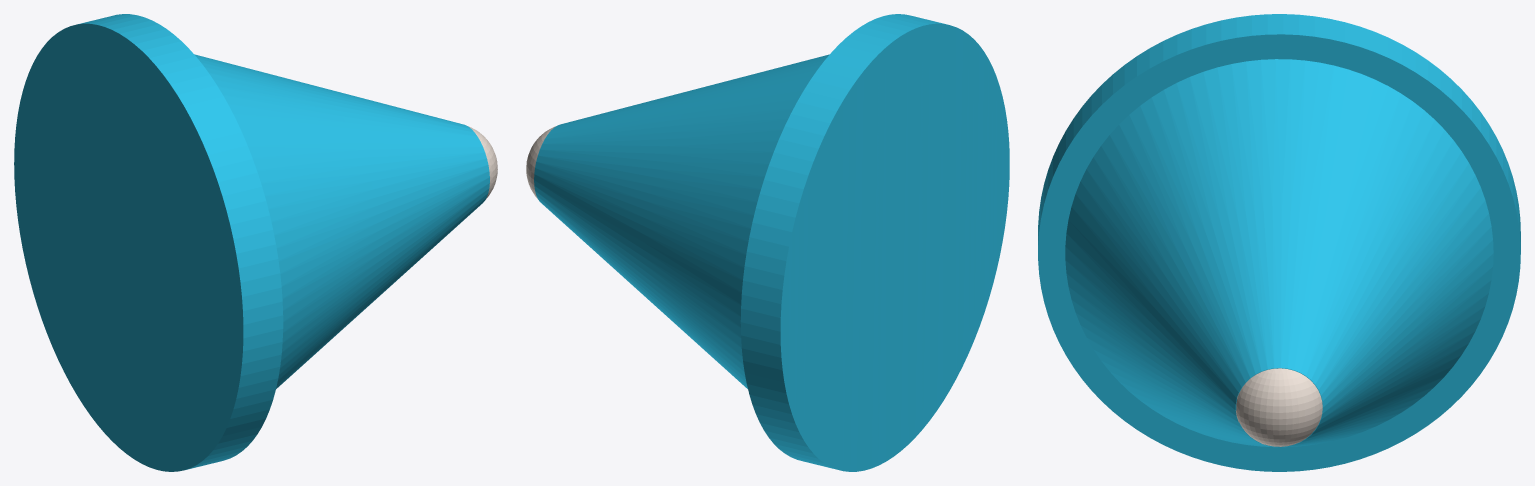
File: camera.dae
3 views of the same model, side by side, from view 1: azimuth 30°, elevation 25°; view 2: azimuth 150°, elevation 25°; view 3: azimuth 270°, elevation 25° (orthographic). The views are drawn at different scales.
Parts seen in each view (by area): view 1: Fisheye Camera; view 2: Fisheye Camera; view 3: Fisheye Camera.
Part boxes in pixels (x1,y1,x2,y2): Fisheye Camera: (14,14,497,471); Fisheye Camera: (526,14,1009,471); Fisheye Camera: (1038,14,1520,471).
Bounding box in the file's own units: 0.0914 × 0.1 × 0.1.
